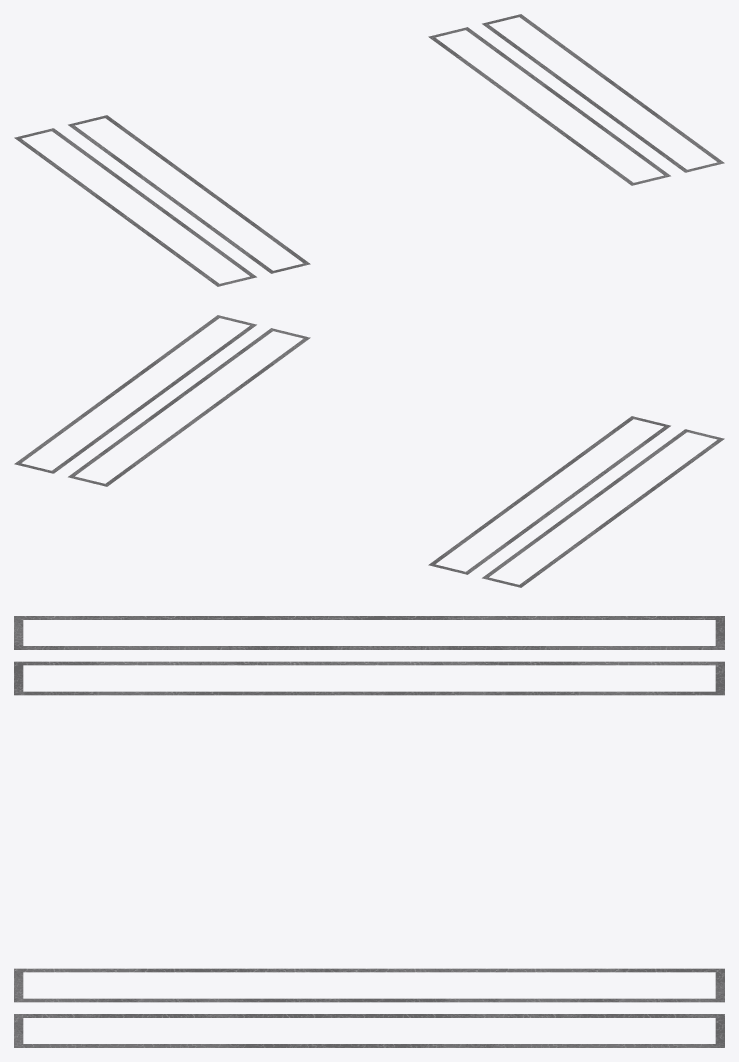
Rendered from touchdown_point_2-border.gltf.
The picture shows the model from 3 angles, top to bottom: view 1: azimuth 30°, elevation 25°; view 2: azimuth 150°, elevation 25°; view 3: azimuth 270°, elevation 25°; orthographic projection. The views are drawn at different scales.
Parts seen in each view (by area): view 1: touchdown_point_2-border; view 2: touchdown_point_2-border; view 3: touchdown_point_2-border.
Part boxes in pixels (bbox=[...]): touchdown_point_2-border: bbox=[14, 14, 724, 286]; touchdown_point_2-border: bbox=[14, 315, 724, 587]; touchdown_point_2-border: bbox=[14, 616, 724, 1047].
Size of the model in its own units: 33.2 by 0 by 23.1.
